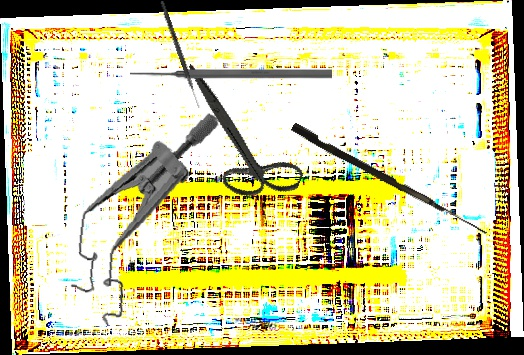Hook Surgical: (289, 122, 492, 235), (158, 0, 203, 109)
Iris Scissors: (150, 63, 327, 215)
Pusher: (130, 67, 332, 80)
Speculum: (64, 98, 221, 339)
